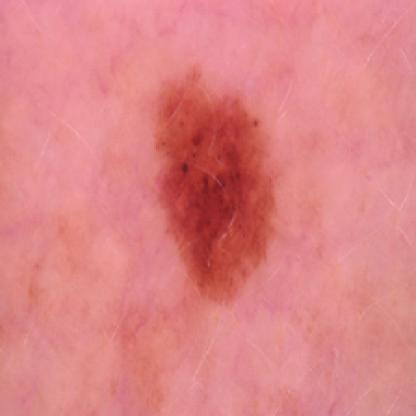benign: (143, 65, 308, 297)
